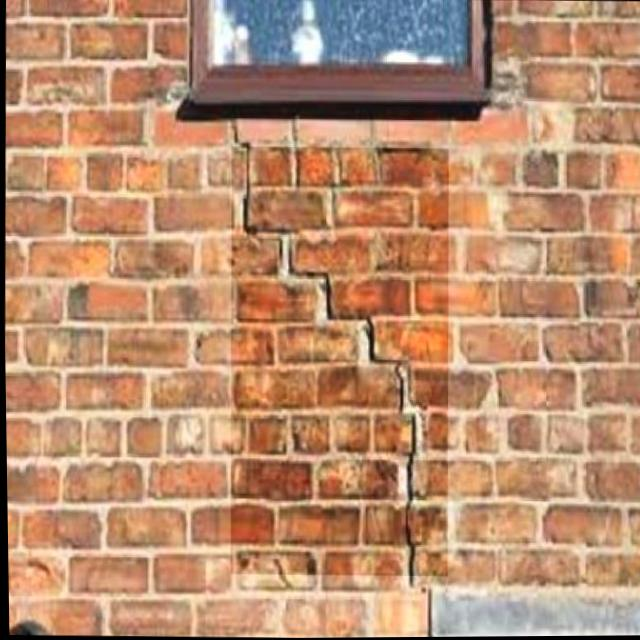Crack: (207, 150, 478, 603)
